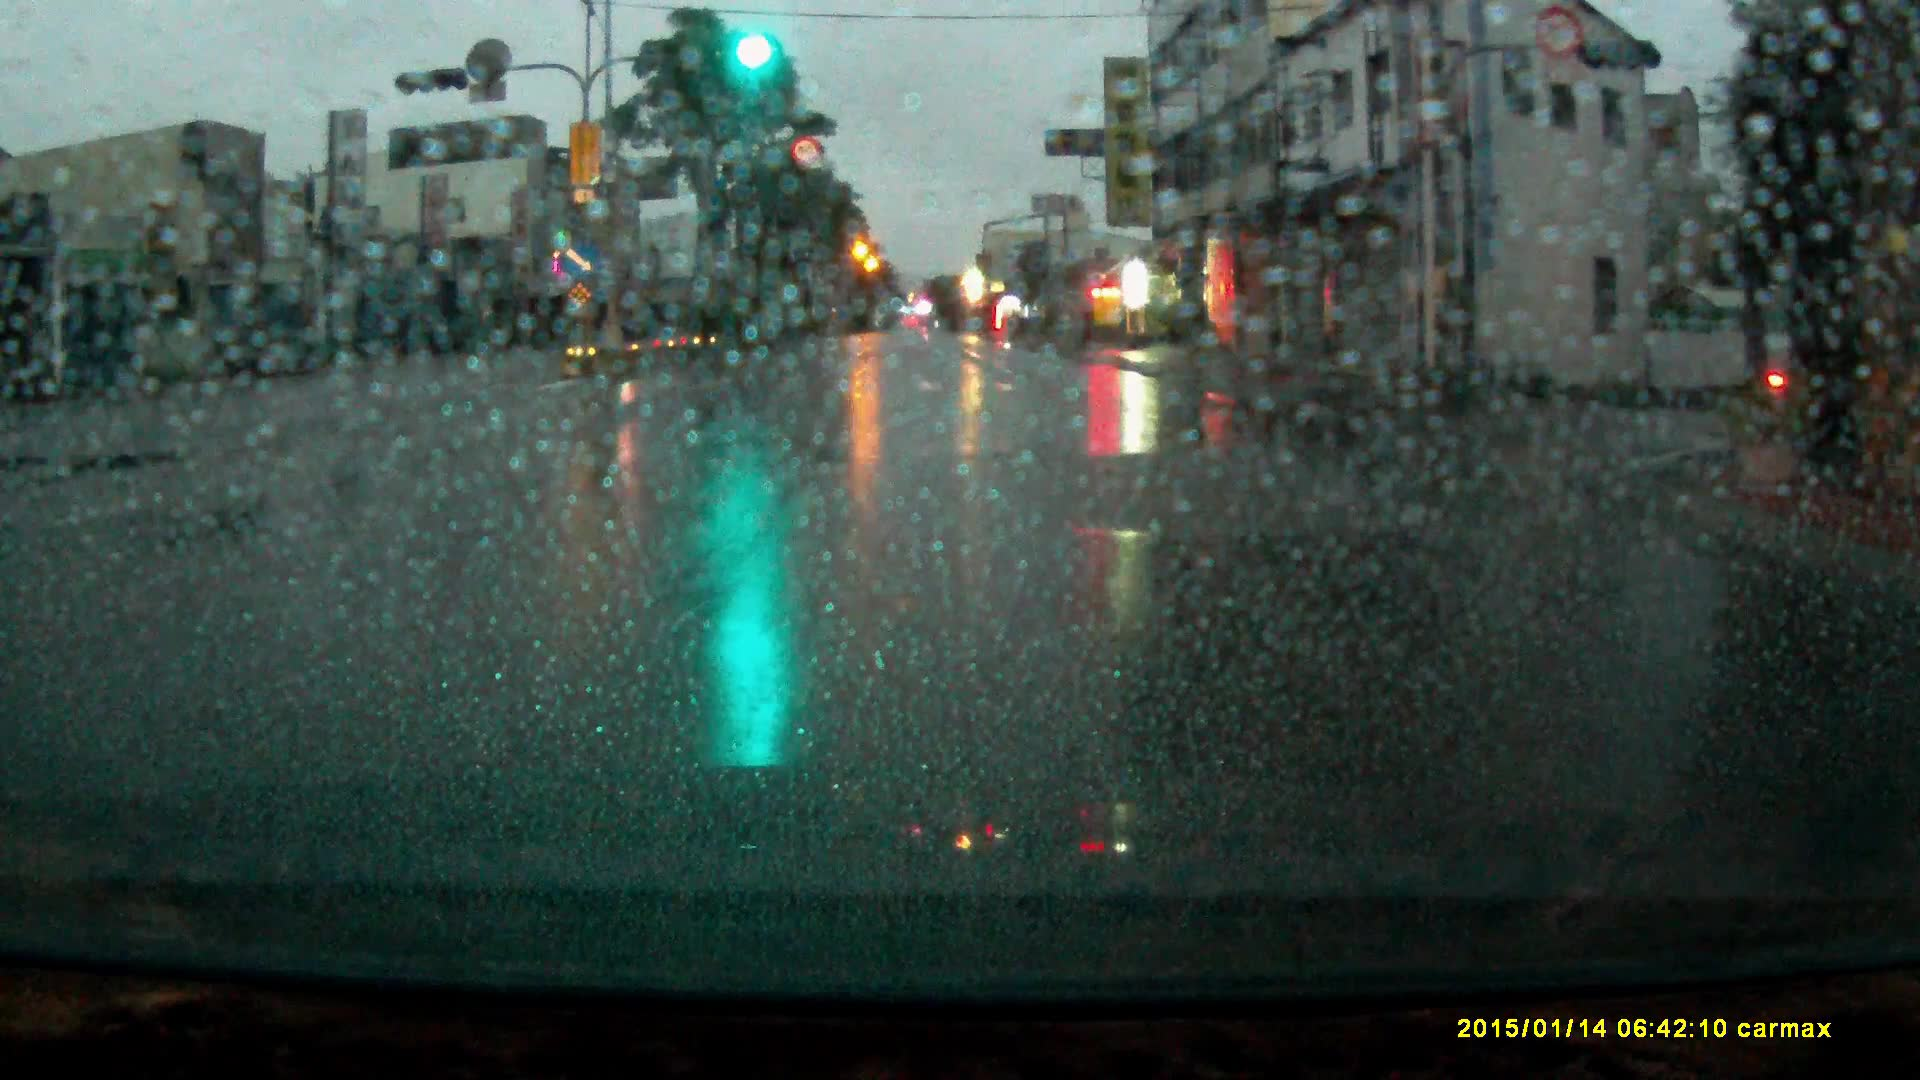rider: (1764, 309, 1830, 419)
